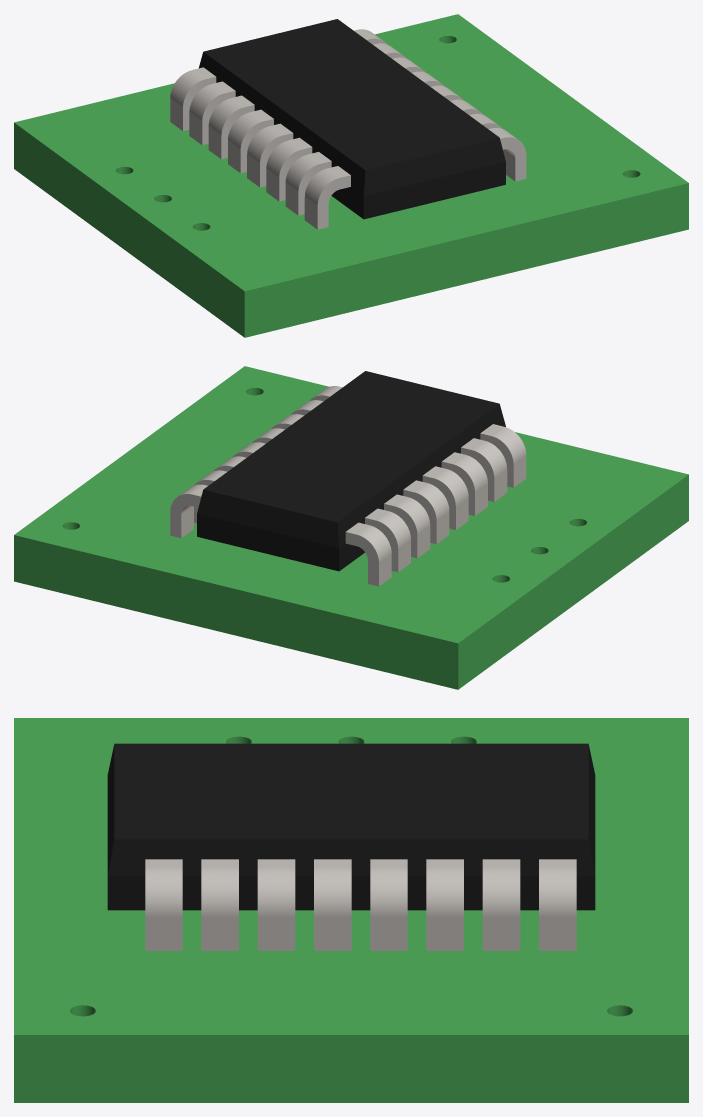
File: part 8 pcb.fbx
3 views of the same model, one above another, from view 1: azimuth 30°, elevation 25°; view 2: azimuth 150°, elevation 25°; view 3: azimuth 270°, elevation 25° (orthographic). The views are drawn at different scales.
Size of the model in its own units: 10 by 2.25 by 9.
